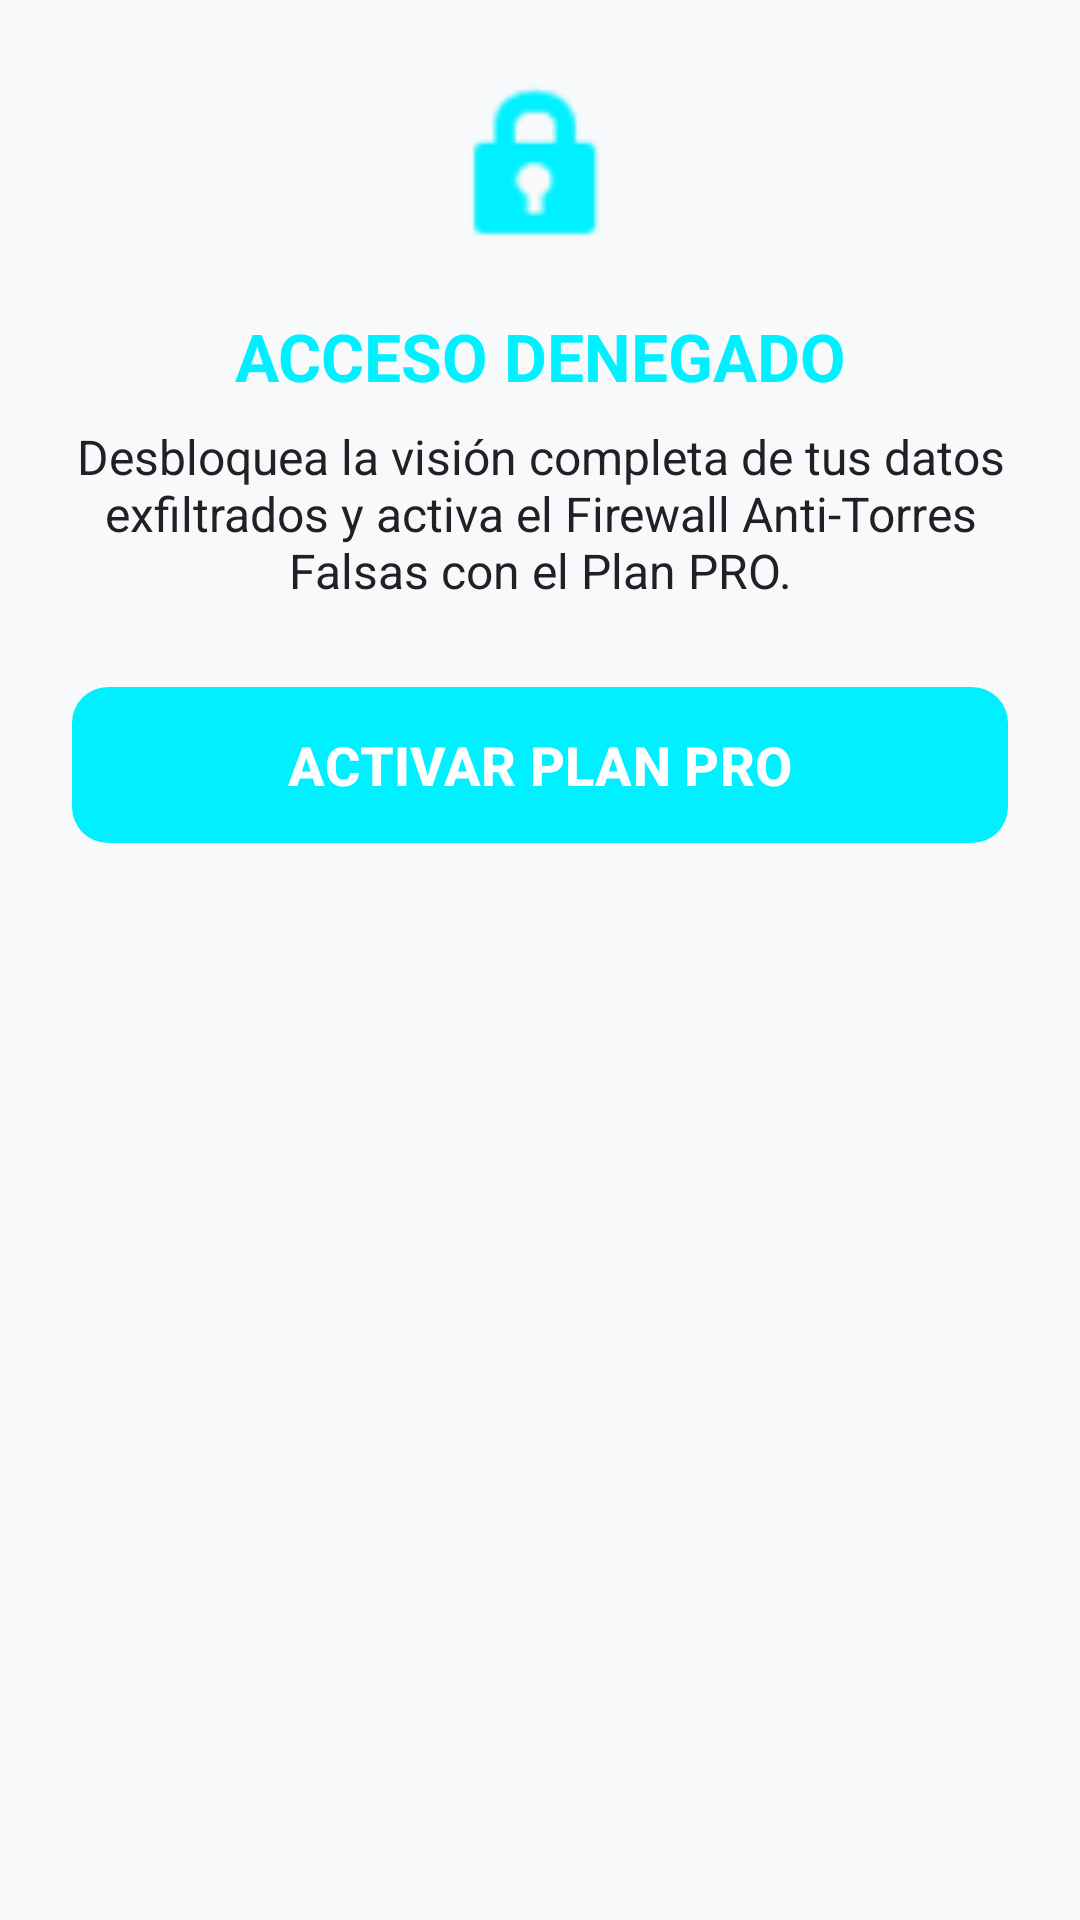

Named icons in this screenshot (1080px x 1920px) and their centers, (x,y):
lock idle: (535,162)
